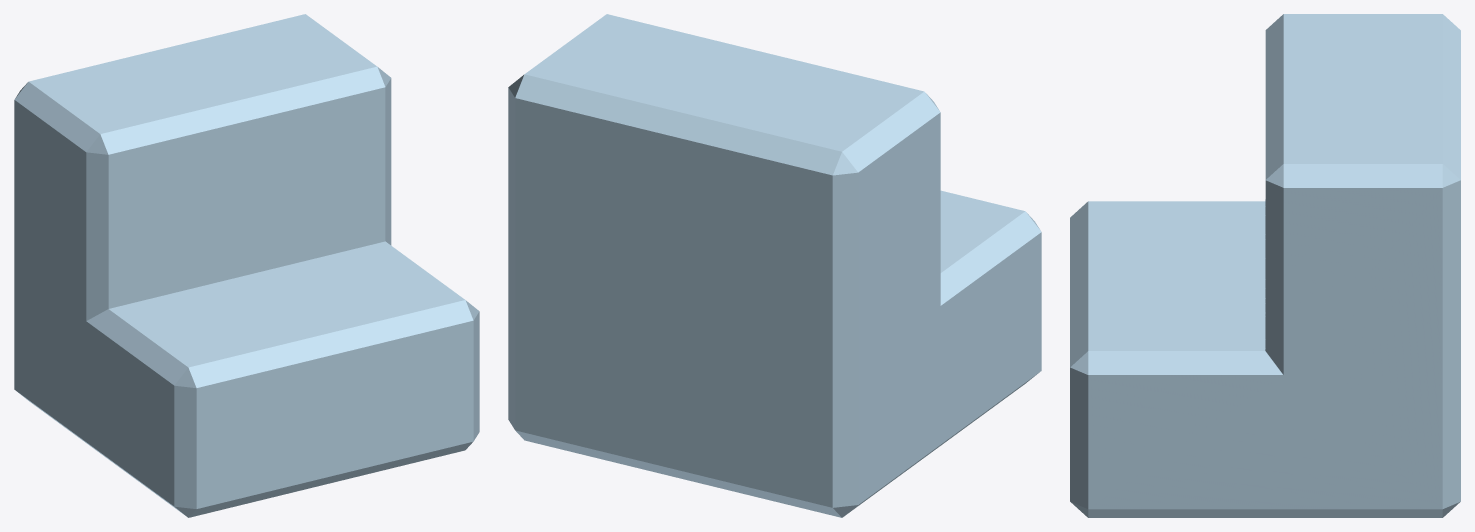
Rendered from R4B_Step_LOD1.fbx.
3 views of the same model, side by side, from view 1: azimuth 30°, elevation 25°; view 2: azimuth 150°, elevation 25°; view 3: azimuth 270°, elevation 25° (orthographic). The views are drawn at different scales.
Parts seen in each view (by area): view 1: R4B_Step_LOD1; view 2: R4B_Step_LOD1; view 3: R4B_Step_LOD1.
Part boxes in pixels (box(x1,y1,x2,y2)): R4B_Step_LOD1: box(14, 14, 479, 517); R4B_Step_LOD1: box(508, 14, 1041, 517); R4B_Step_LOD1: box(1070, 14, 1460, 517).
Size of the model in its own units: 0.52 by 0.52 by 0.52.
